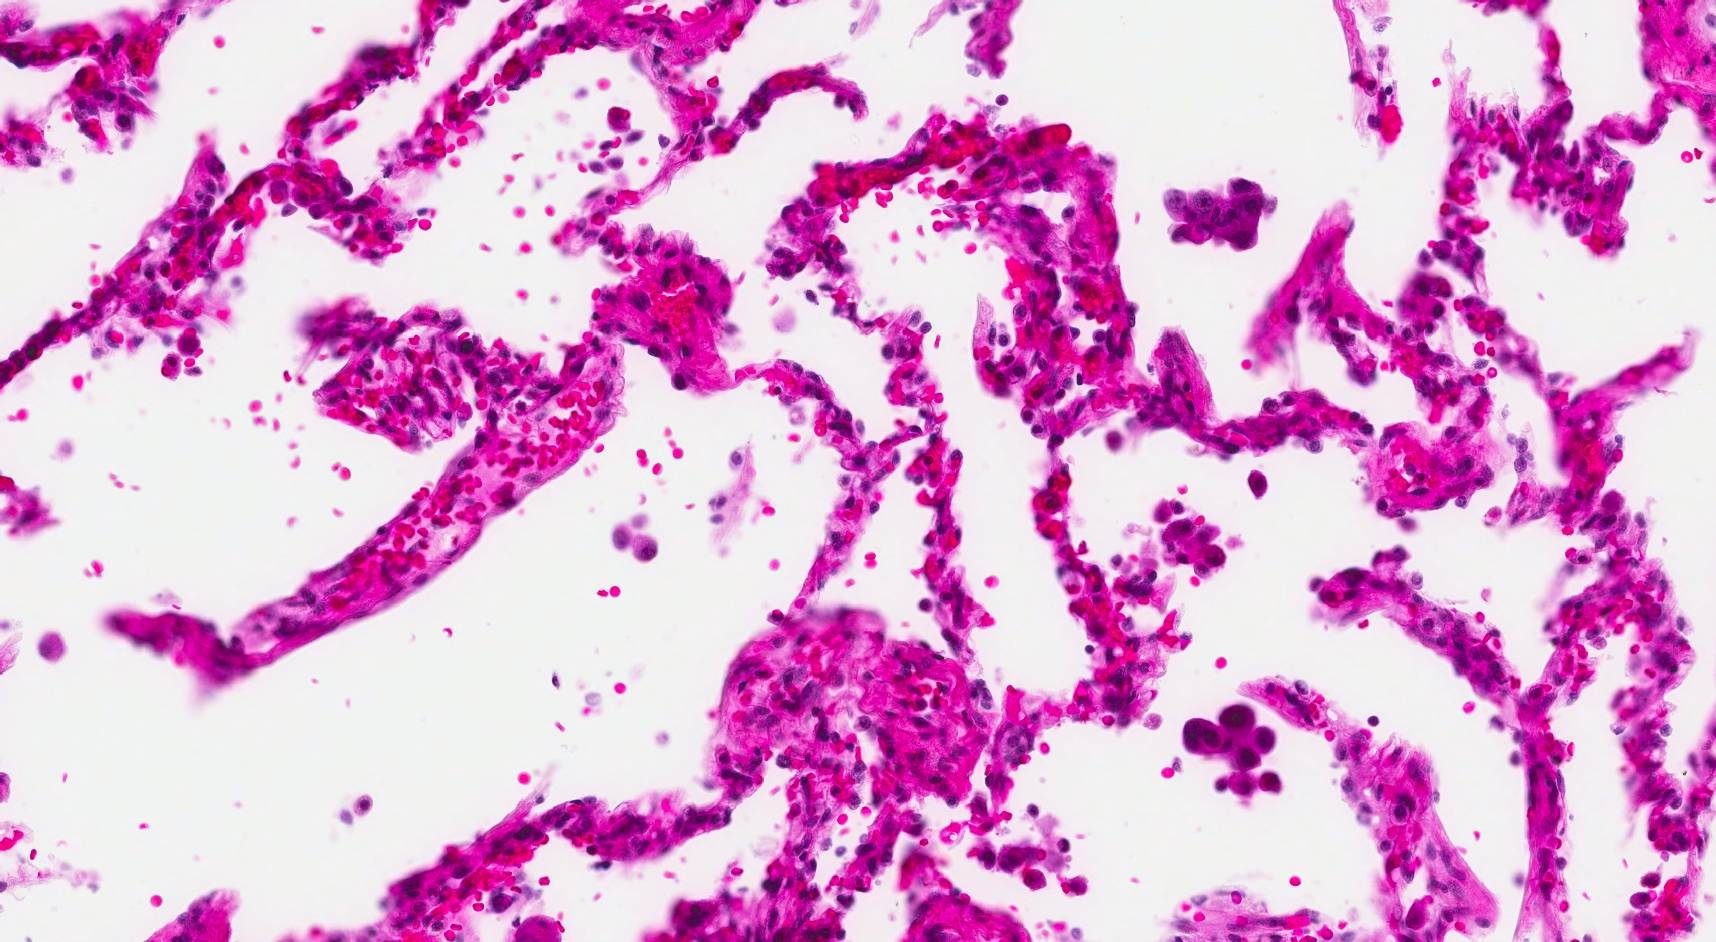stas: (1183, 703, 1289, 800), (1160, 172, 1279, 256)
